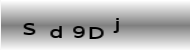9: (72, 24, 85, 37)
D: (89, 25, 105, 39)
S: (22, 21, 36, 36)
d: (49, 24, 63, 38)
j: (112, 16, 121, 33)
